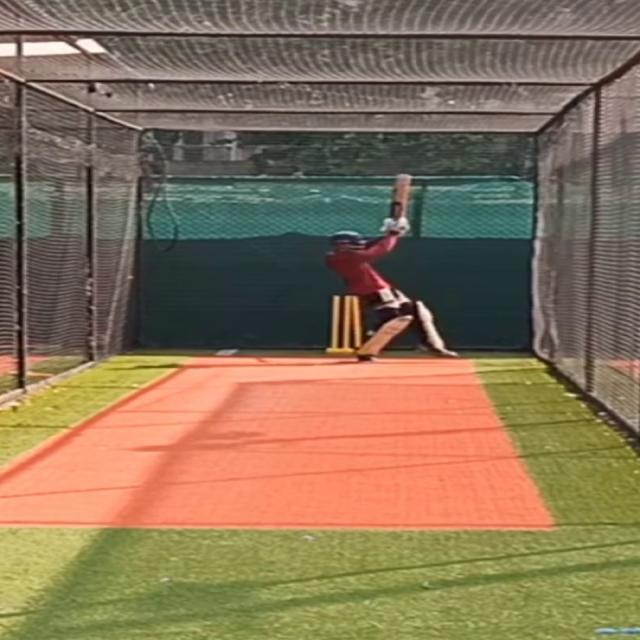stump: (324, 295, 362, 355)
